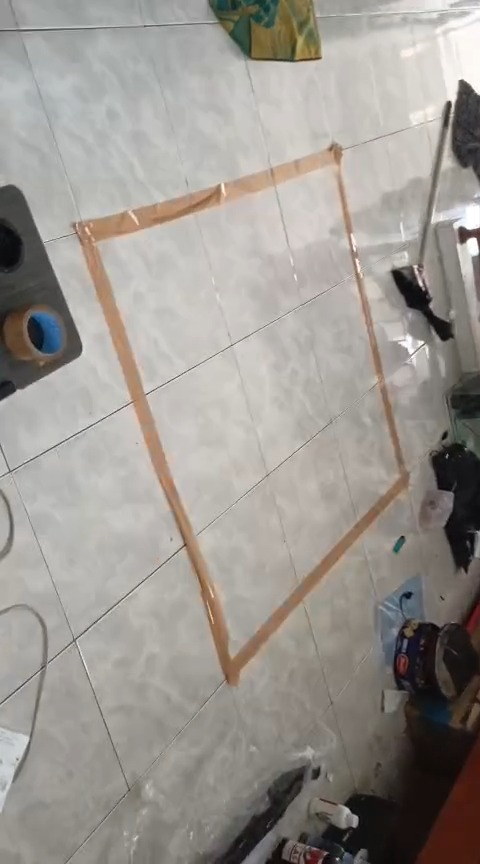floor marking: (75, 143, 407, 684)
